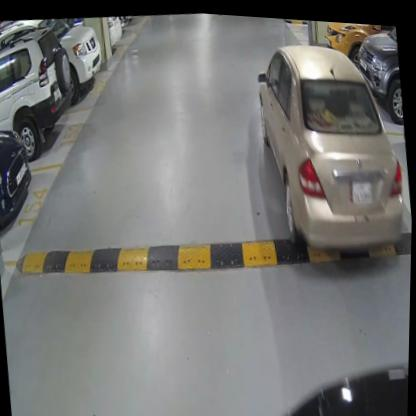np: (350, 173, 374, 202)
